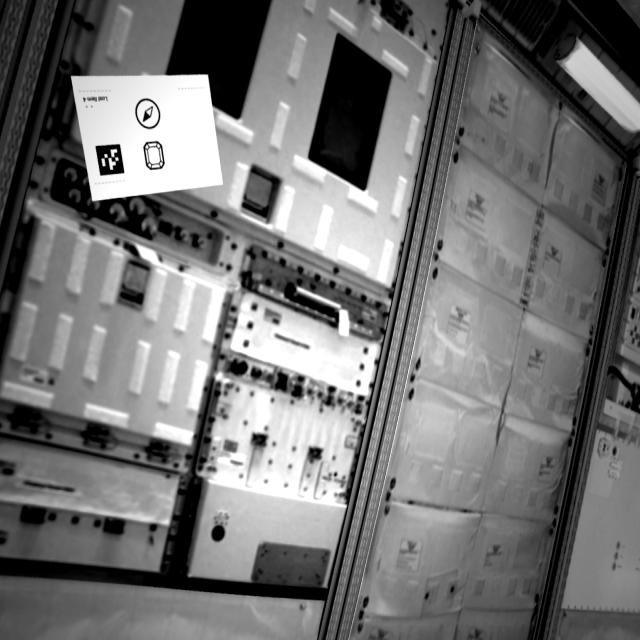compass: (133, 95, 166, 133)
emerald: (144, 139, 167, 176)
